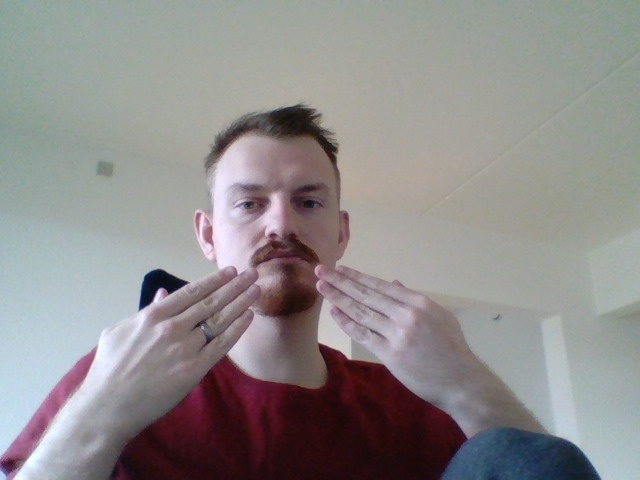ThankYou: (94, 265, 478, 411)
